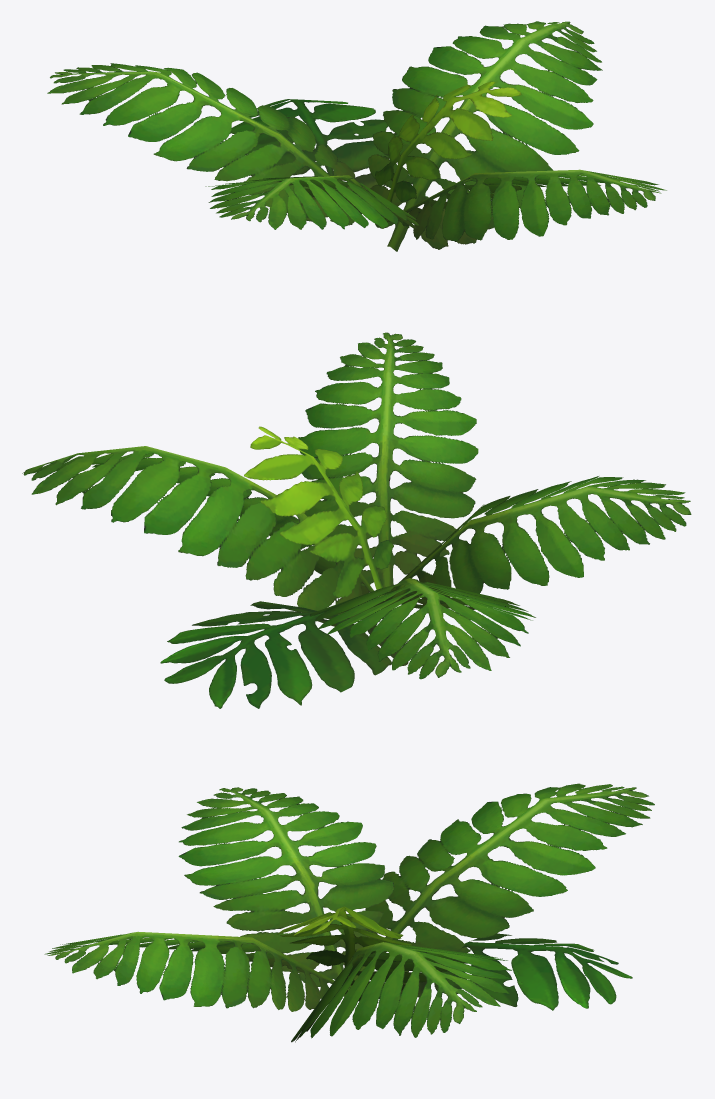
The model's file is huacao_jiaowai_X02.FBX.
The picture shows the model from 3 angles, top to bottom: view 1: azimuth 30°, elevation 25°; view 2: azimuth 150°, elevation 25°; view 3: azimuth 270°, elevation 25°; orthographic projection. The views are drawn at different scales.
Visible parts, largest first — view 1: huacao_jiaowai_X02; view 2: huacao_jiaowai_X02; view 3: huacao_jiaowai_X02.
Part boxes in pixels (x1=…): huacao_jiaowai_X02: x1=47, y1=21, x2=666, y2=251; huacao_jiaowai_X02: x1=22, y1=332, x2=691, y2=708; huacao_jiaowai_X02: x1=44, y1=783, x2=654, y2=1042.
Size of the model in its own units: 2208 by 720 by 2265.
